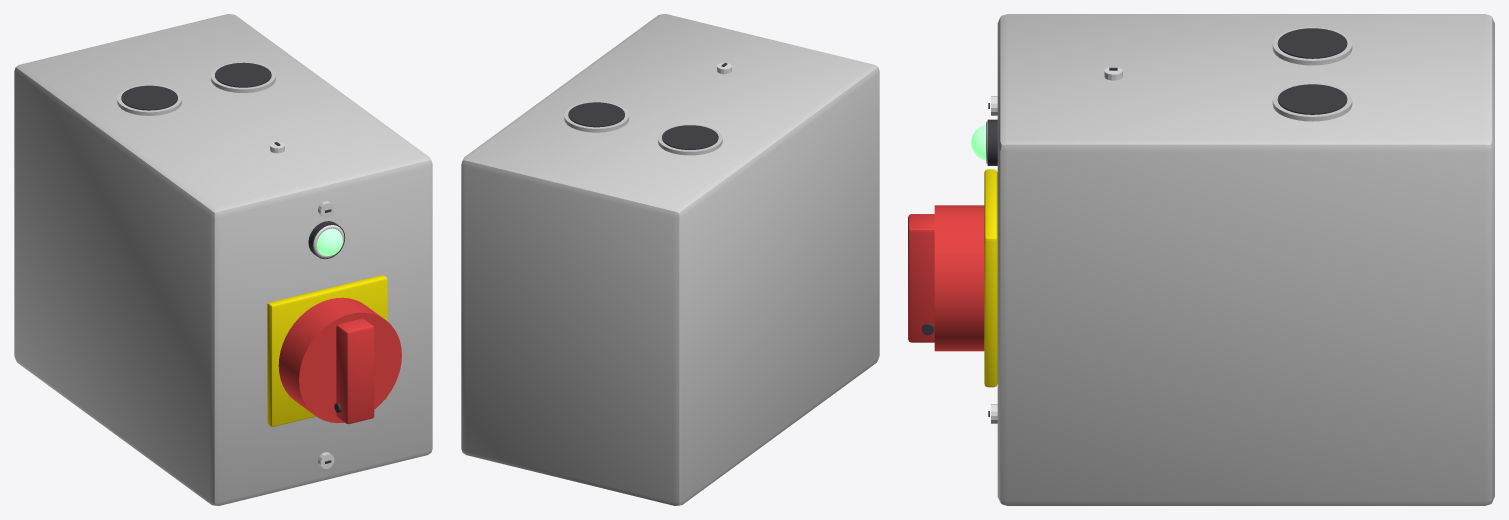
Rendered from AUX_Disconnect.glb.
3 renders of one model, left to right at view 1: azimuth 30°, elevation 25°; view 2: azimuth 150°, elevation 25°; view 3: azimuth 270°, elevation 25°, orthographic. The views are drawn at different scales.
Visible parts, largest first — view 1: Aux_Body, Aux_HandleBody, Aux_YellowPlate, Aux_HandleLever, Aux_Knockout_0_Inner, Aux_Knockout_1_Inner, Aux_Knockout_1, Aux_Knockout_0, Aux_PilotLens; view 2: Aux_Body, Aux_Knockout_1_Inner, Aux_Knockout_0_Inner, Aux_Knockout_0, Aux_Knockout_1; view 3: Aux_Body, Aux_HandleBody, Aux_HandleLever, Aux_YellowPlate, Aux_Knockout_1_Inner, Aux_Knockout_0_Inner, Aux_Knockout_0, Aux_Knockout_1.
Part boxes in pixels (x1,y1,x2,y2): Aux_Body: [14, 14, 432, 505]; Aux_HandleBody: [278, 297, 401, 423]; Aux_YellowPlate: [267, 275, 387, 426]; Aux_HandleLever: [336, 318, 374, 424]; Aux_Knockout_0_Inner: [121, 85, 177, 110]; Aux_Knockout_1_Inner: [215, 62, 271, 87]; Aux_Knockout_1: [211, 62, 275, 92]; Aux_Knockout_0: [117, 85, 181, 115]; Aux_PilotLens: [317, 228, 342, 255]; Aux_Body: [461, 14, 879, 505]; Aux_Knockout_1_Inner: [568, 102, 624, 127]; Aux_Knockout_0_Inner: [662, 125, 718, 149]; Aux_Knockout_0: [658, 124, 722, 155]; Aux_Knockout_1: [564, 101, 628, 132]; Aux_Body: [997, 14, 1494, 505]; Aux_HandleBody: [934, 205, 984, 351]; Aux_HandleLever: [908, 214, 934, 342]; Aux_YellowPlate: [984, 169, 997, 387]; Aux_Knockout_1_Inner: [1277, 84, 1347, 114]; Aux_Knockout_0_Inner: [1277, 28, 1347, 58]; Aux_Knockout_0: [1272, 27, 1352, 65]; Aux_Knockout_1: [1272, 83, 1352, 121].
Bounding box in the file's own units: 0.095 × 0.1247 × 0.177.
